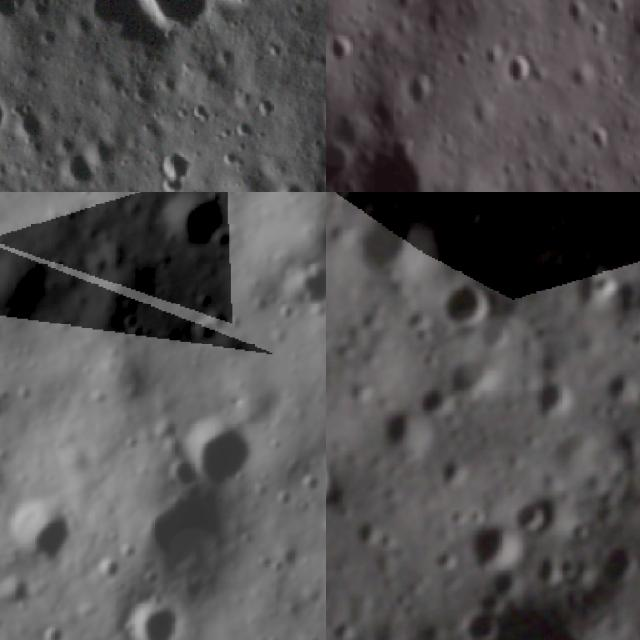crater: (355, 200, 438, 284), (150, 493, 223, 582), (104, 0, 227, 47), (341, 143, 445, 192), (463, 514, 530, 578), (438, 346, 507, 404), (194, 421, 251, 487), (372, 404, 435, 460), (267, 259, 326, 318), (15, 505, 68, 567), (434, 277, 496, 330), (494, 35, 538, 94), (525, 376, 580, 422), (148, 143, 197, 192), (172, 192, 218, 244), (128, 600, 187, 640), (511, 491, 560, 536), (597, 539, 640, 590), (595, 362, 640, 408), (60, 140, 103, 188), (15, 100, 54, 150), (452, 604, 501, 640), (585, 269, 620, 306), (209, 0, 282, 17), (166, 458, 192, 489), (0, 85, 9, 136), (0, 386, 10, 428)
